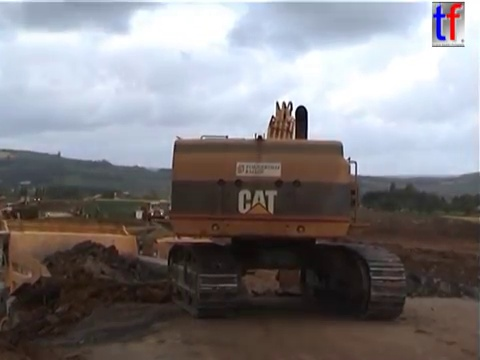excavator: (164, 96, 411, 322)
truck: (1, 218, 220, 359), (152, 233, 249, 312), (1, 199, 47, 222), (130, 199, 167, 222)
